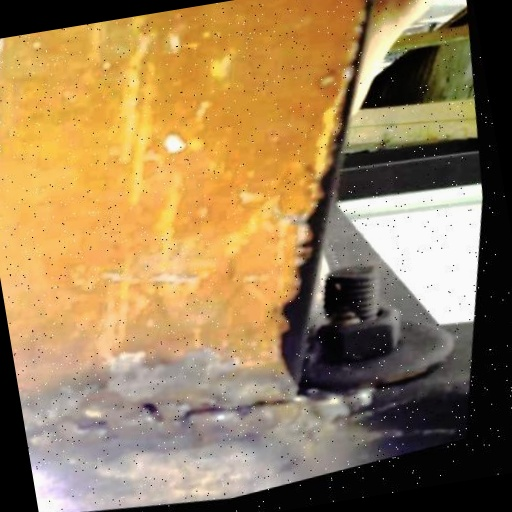crack: (17, 333, 318, 512)
